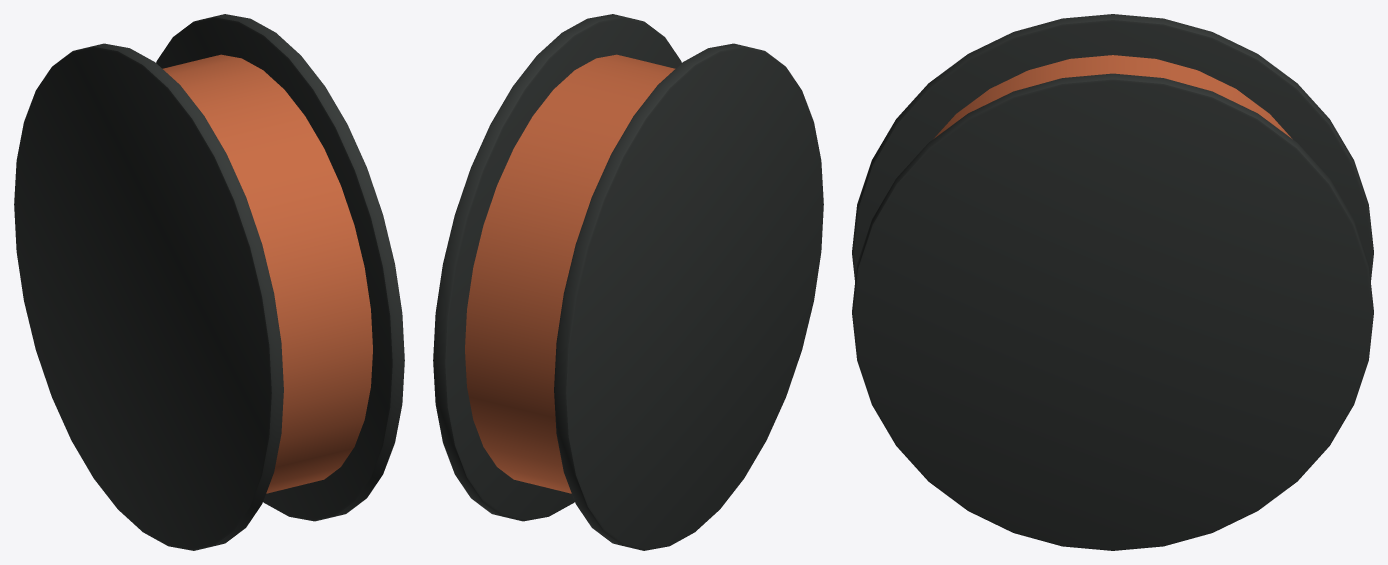
File: trolley_mig_welder_wire_spool.glb
3 views of the same model, side by side, from view 1: azimuth 30°, elevation 25°; view 2: azimuth 150°, elevation 25°; view 3: azimuth 270°, elevation 25° (orthographic).
Parts seen in each view (by area): view 1: trolley_mig_welder_wire_spool; view 2: trolley_mig_welder_wire_spool; view 3: trolley_mig_welder_wire_spool.
Boxes of the visible parts, box(x1,y1,x2,y2) form: trolley_mig_welder_wire_spool: box(14, 14, 404, 550); trolley_mig_welder_wire_spool: box(433, 14, 823, 550); trolley_mig_welder_wire_spool: box(852, 14, 1373, 550).
Size of the model in its own units: 0.06 by 0.2 by 0.2.
